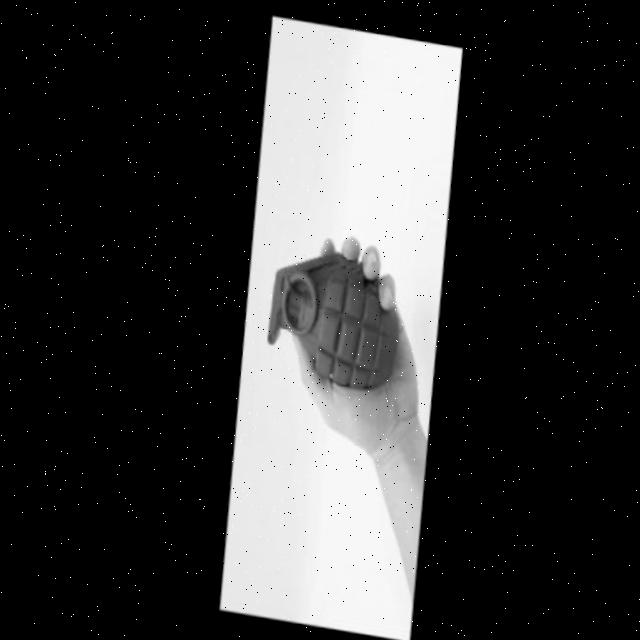grenade: (245, 241, 415, 402)
